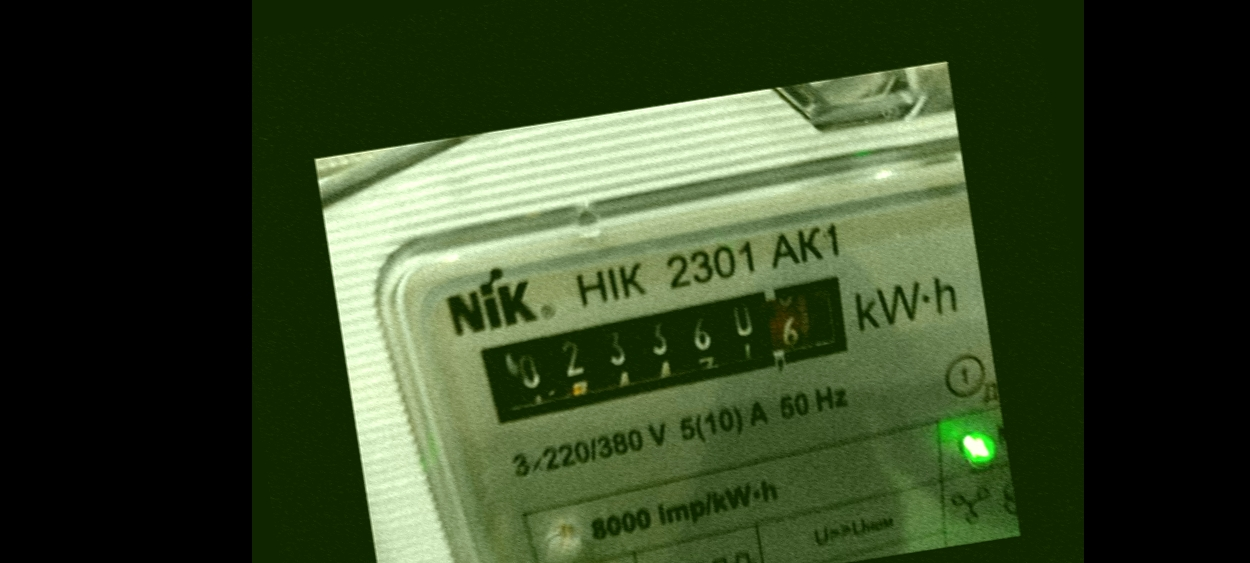0: (514, 347, 545, 392), (729, 299, 758, 339)
2: (557, 334, 589, 378)
3: (603, 326, 630, 369), (644, 317, 672, 358)
6: (686, 310, 718, 355), (779, 311, 805, 350)
screen: (455, 259, 869, 437)
